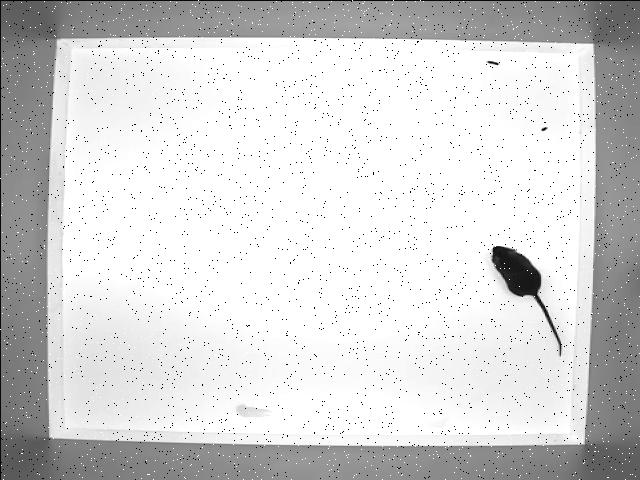Tikus: (490, 244, 562, 356)
